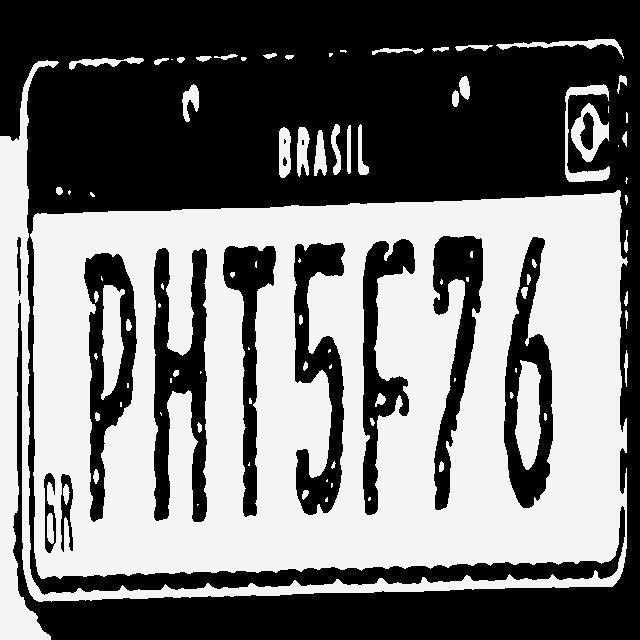5: (278, 230, 342, 530)
6: (492, 236, 559, 530)
7: (422, 225, 492, 518)
f: (346, 227, 408, 537)
h: (144, 222, 216, 521)
p: (67, 227, 126, 501)
t: (209, 240, 279, 535)
